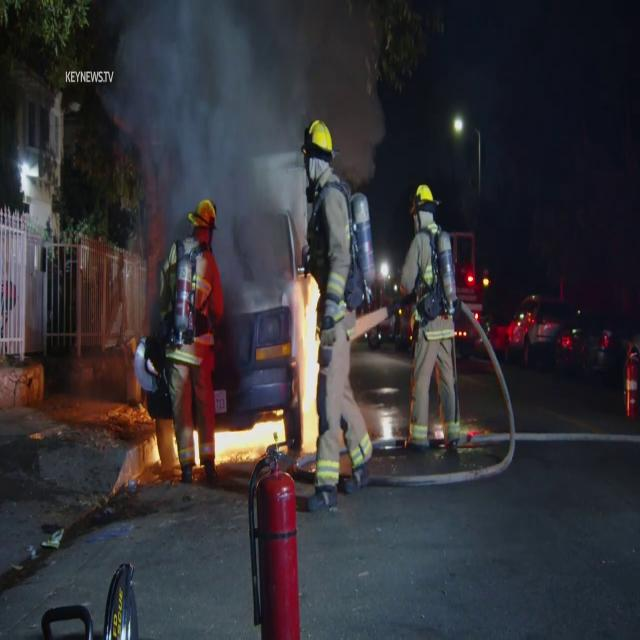Fire: (293, 264, 322, 452), (209, 406, 288, 470)
Smoke: (114, 0, 293, 245)
